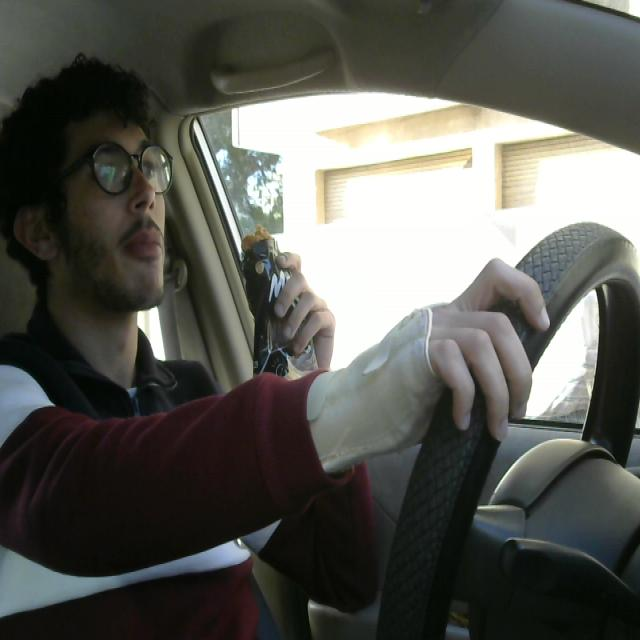eating: (229, 213, 333, 450)
